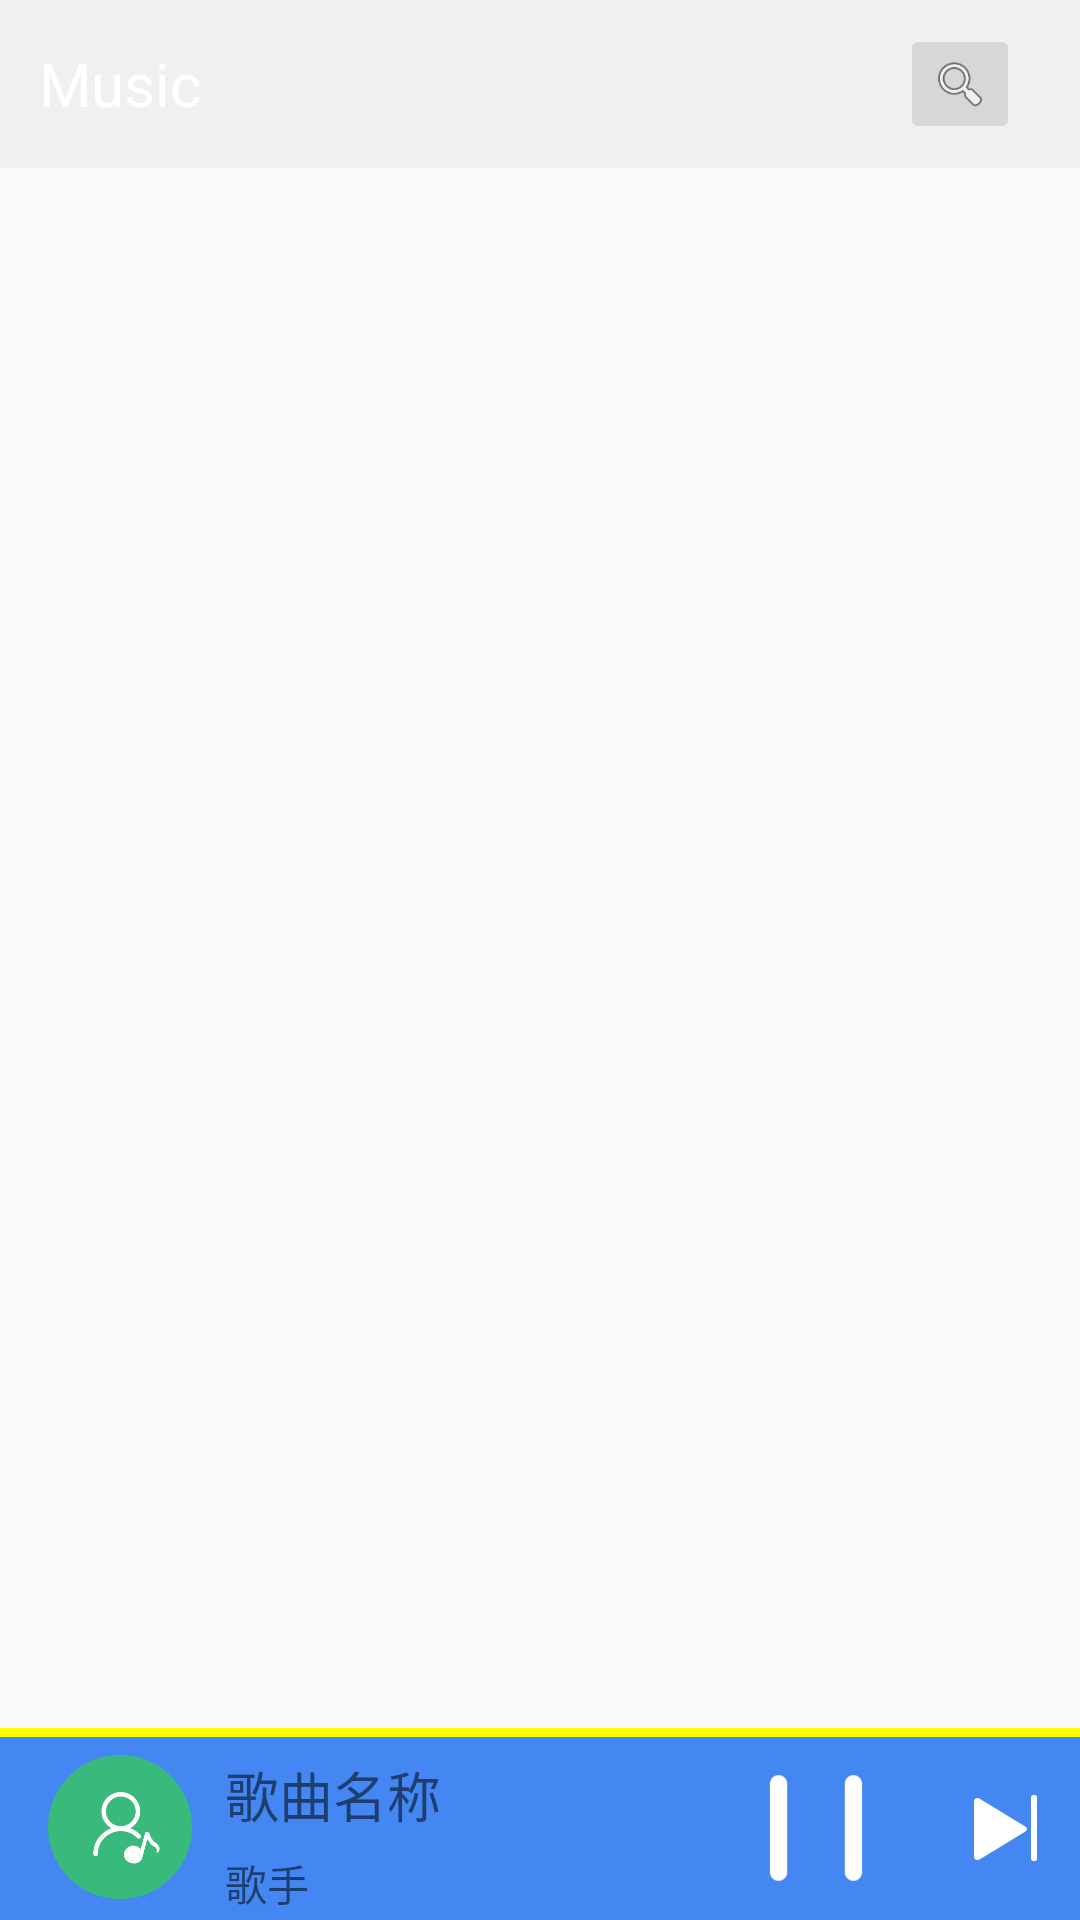

Screen size 1080 × 1920. Icon name, then its center in pixels as [x,y]:
next: [1005,1828]
pause: [816,1828]
search: [960,84]
singer: [120,1827]
